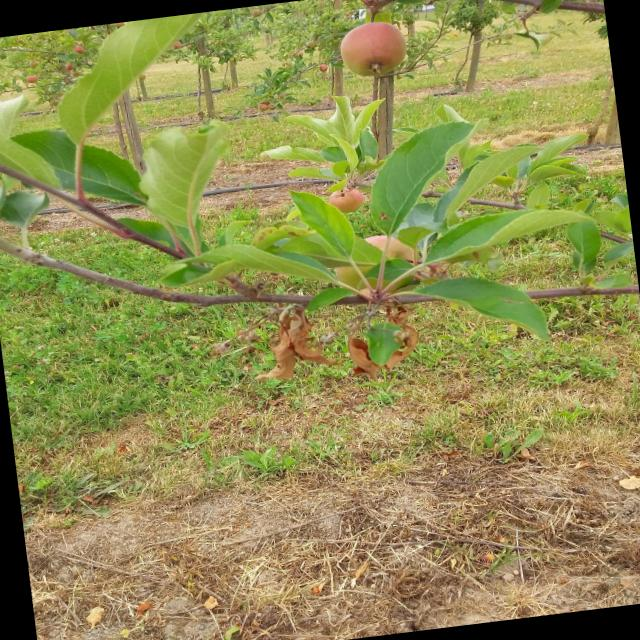-FireBlight-: (345, 284, 420, 374), (252, 289, 322, 382)
